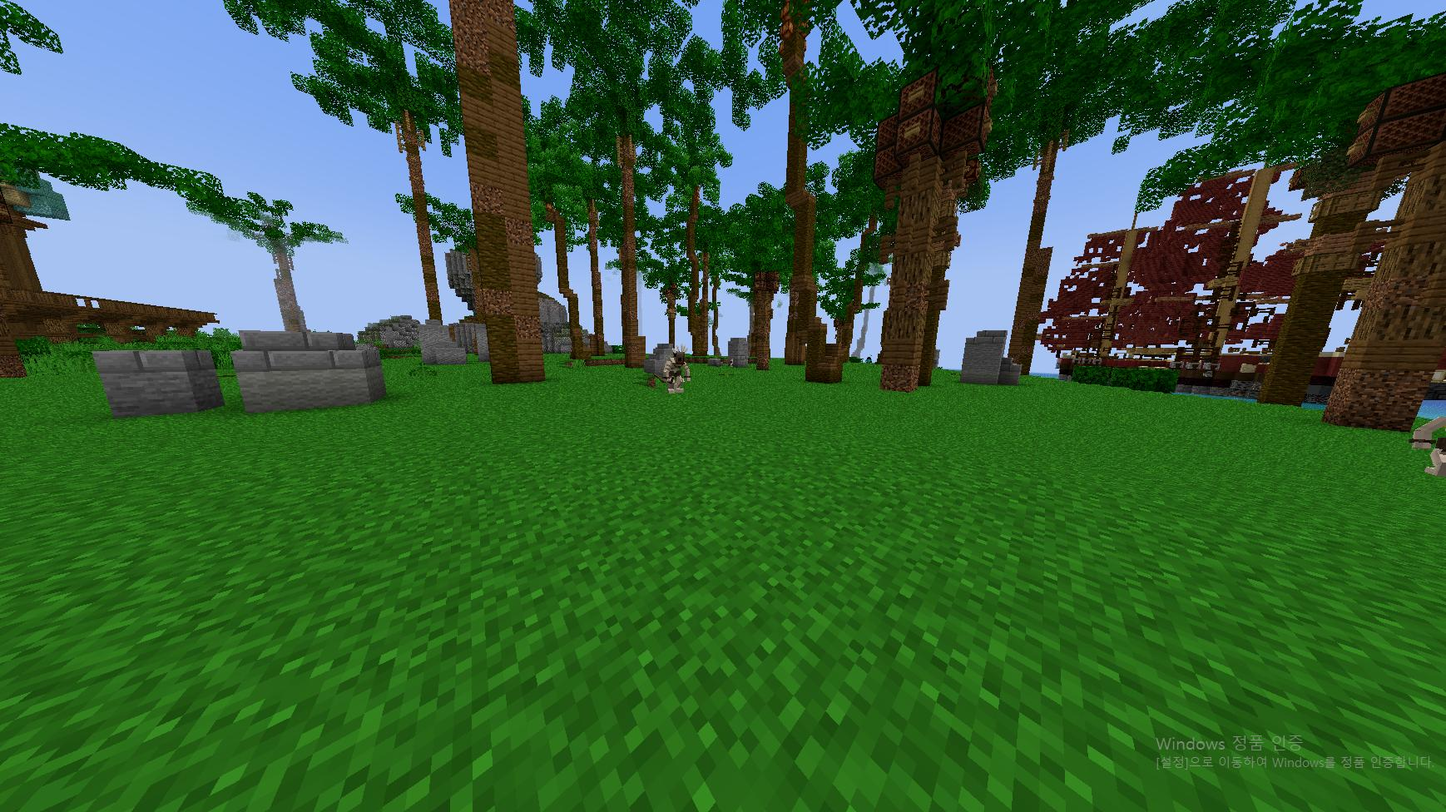bow_indian: (656, 343, 702, 410)
